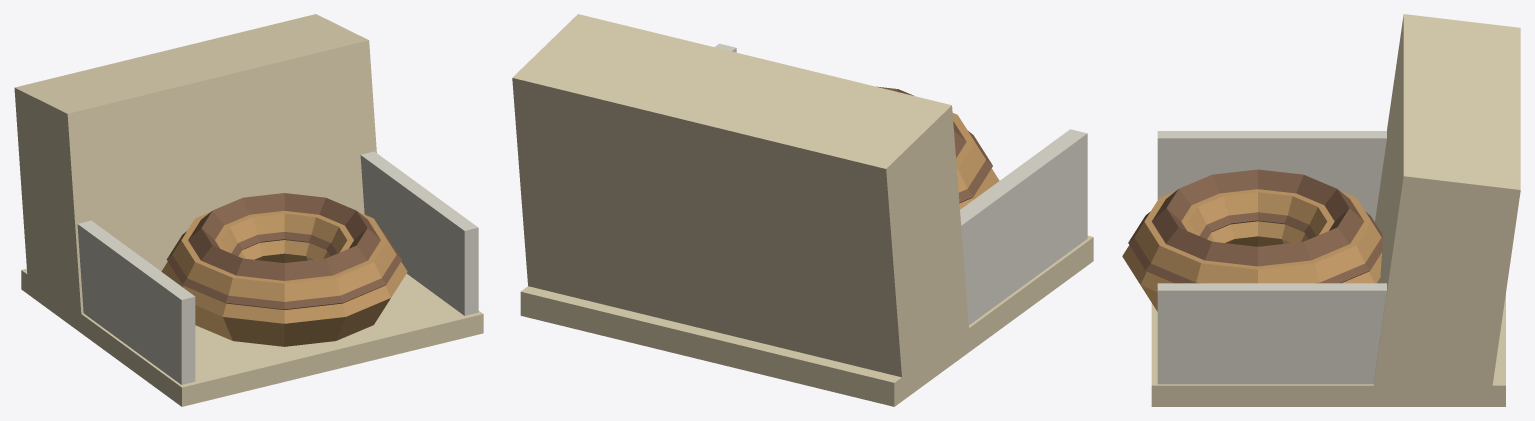
The model's file is b16_donut_in_open_paper_bag.glb.
3 renders of one model, left to right at view 1: azimuth 30°, elevation 25°; view 2: azimuth 150°, elevation 25°; view 3: azimuth 270°, elevation 25°, orthographic. The views are drawn at different scales.
Visible parts, largest first — view 1: b16_donut_in_open_paper_bag; view 2: b16_donut_in_open_paper_bag; view 3: b16_donut_in_open_paper_bag.
Part boxes in pixels (left/top/right/bottom): b16_donut_in_open_paper_bag: left=14, top=14, right=483, bottom=406; b16_donut_in_open_paper_bag: left=512, top=14, right=1093, bottom=406; b16_donut_in_open_paper_bag: left=1122, top=14, right=1520, bottom=406.
Bounding box in the file's own units: 0.13 × 0.0863 × 0.135.
